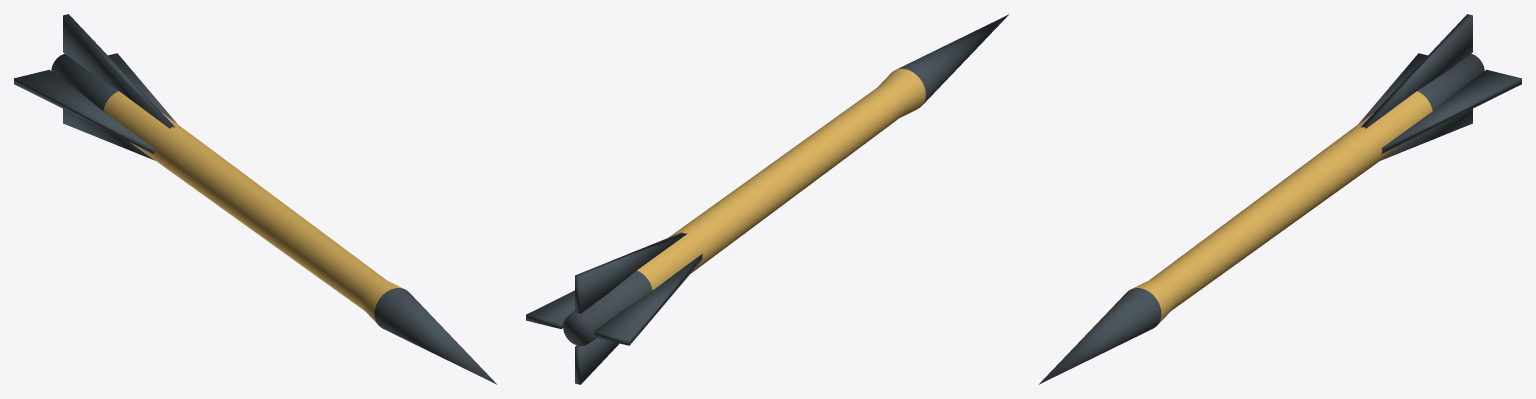
File: tank_dart_projectile_display.glb
3 views of the same model, side by side, from view 1: azimuth 30°, elevation 25°; view 2: azimuth 150°, elevation 25°; view 3: azimuth 330°, elevation 25° (orthographic).
Visible parts, largest first — view 1: AMMO_MESH.040; view 2: AMMO_MESH.040; view 3: AMMO_MESH.040.
Part boxes in pixels (x1,y1,x2,y2): AMMO_MESH.040: (14,14,496,384); AMMO_MESH.040: (526,14,1008,384); AMMO_MESH.040: (1039,14,1521,384).
Bounding box in the file's own units: 0.0882 × 0.0882 × 0.6392.
